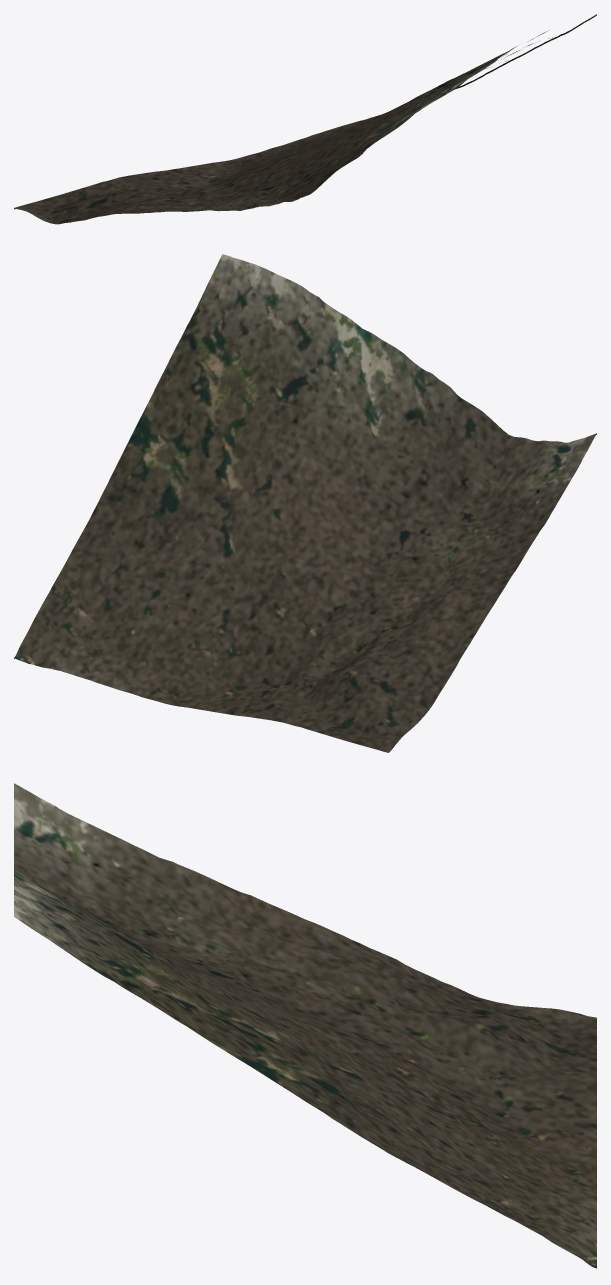
The picture shows the model from 3 angles, top to bottom: view 1: azimuth 30°, elevation 25°; view 2: azimuth 150°, elevation 25°; view 3: azimuth 270°, elevation 25°; orthographic projection. The views are drawn at different scales.
Bounding box in the file's own units: 250 × 167 × 241.
1 material, 1 textured.
